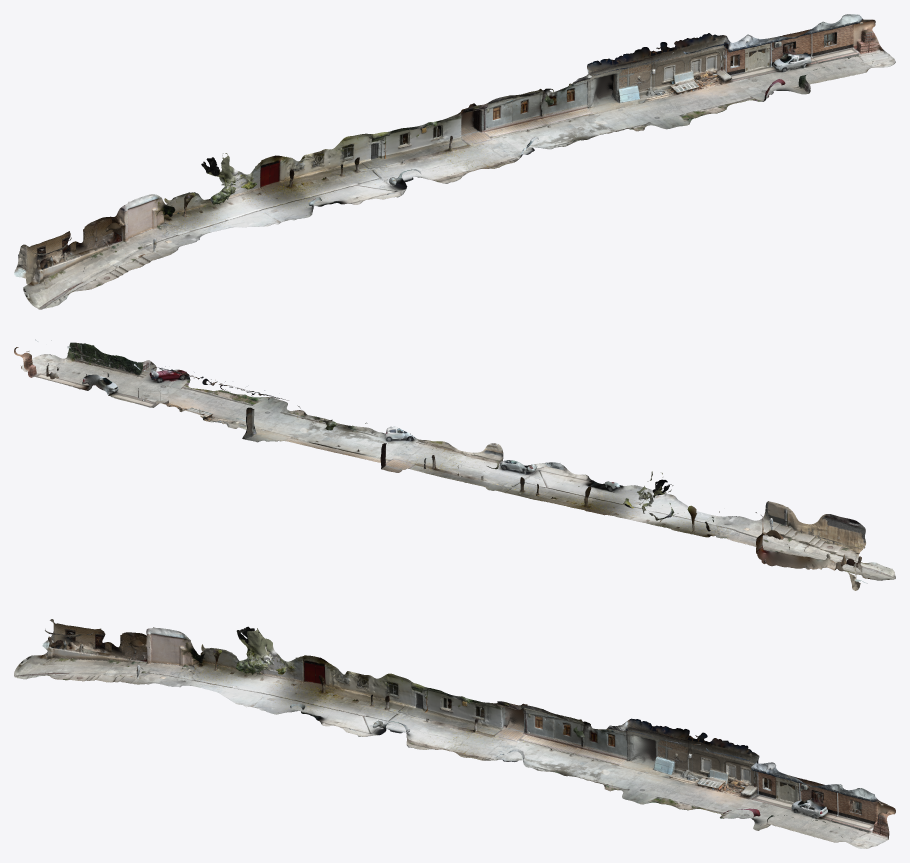
Rendered from angren-2.glb.
3 renders of one model, top to bottom at view 1: azimuth 30°, elevation 25°; view 2: azimuth 150°, elevation 25°; view 3: azimuth 330°, elevation 25°, orthographic. The views are drawn at different scales.
Parts seen in each view (by area): view 1: Story 1, Story 0; view 2: Story 1, Story 0; view 3: Story 1, Story 0.
Part boxes in pixels (left/top/right/bottom): Story 1: left=18, top=14, right=895, bottom=271; Story 0: left=14, top=50, right=886, bottom=309; Story 1: left=14, top=339, right=865, bottom=572; Story 0: left=21, top=365, right=895, bottom=590; Story 1: left=44, top=619, right=895, bottom=848; Story 0: left=14, top=633, right=888, bottom=842.
Size of the model in its own units: 109 by 9.48 by 12.17.
7 materials, 7 textured.
